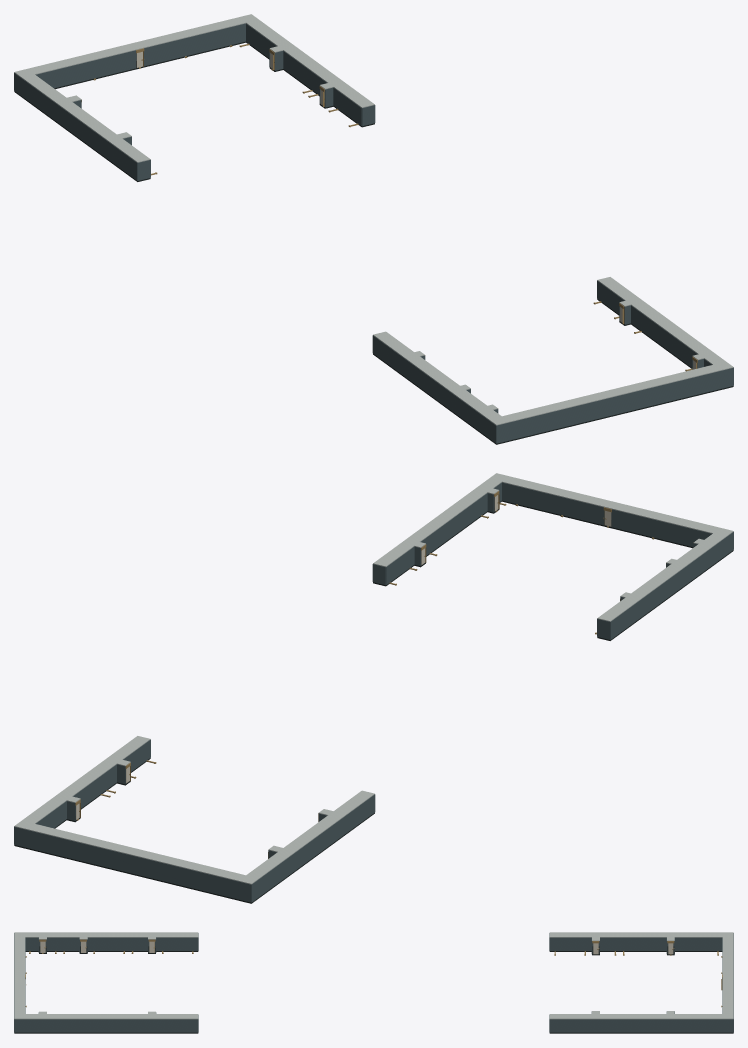
File: D04_STARBOARD_CENTRAL_COURT_ROUTES_r001.glb
3 views of the same model, one above another, from view 1: azimuth 30°, elevation 25°; view 2: azimuth 150°, elevation 25°; view 3: azimuth 270°, elevation 25° (orthographic). The views are drawn at different scales.
Visible parts, largest first — view 1: SCR_Roof0, SCR_Roof1, SCR_Wall1_4_0, SCR_Wall0_18, SCR_Wall1_1, SCR_Wall0_1_1, SCR_Wall0_1_0, SCR_Wall1_13, SCR_Floor1, SCR_Floor0, SCR_Wall0_6; view 2: SCR_Roof0, SCR_Roof1, SCR_Wall0_15_0, SCR_Wall0_18, SCR_Wall1_1, SCR_Wall1_18_1, SCR_Wall1_18_0, SCR_Wall1_13, SCR_Floor0, SCR_Floor1, SCR_Wall0_6; view 3: SCR_Roof1, SCR_Roof0, SCR_Wall0_12, SCR_Wall1_7, SCR_Wall0_24, SCR_Wall1_27, SCR_Wall0_0, SCR_Floor0, SCR_Floor1, SCR_Wall0_20, SCR_Wall1_31, SCR_Wall1_23 (+1 smaller).
Boxes of the visible parts, x1=… form: SCR_Roof0: x1=14, y1=14, x2=374, y2=162; SCR_Roof1: x1=373, y1=277, x2=733, y2=425; SCR_Wall1_4_0: x1=509, y1=371, x2=720, y2=440; SCR_Wall0_18: x1=21, y1=78, x2=137, y2=180; SCR_Wall1_1: x1=372, y1=335, x2=488, y2=437; SCR_Wall0_1_1: x1=143, y1=23, x2=245, y2=66; SCR_Wall0_1_0: x1=35, y1=50, x2=135, y2=88; SCR_Wall1_13: x1=631, y1=305, x2=697, y2=367; SCR_Floor1: x1=373, y1=299, x2=733, y2=444; SCR_Floor0: x1=14, y1=41, x2=374, y2=181; SCR_Wall0_6: x1=283, y1=51, x2=326, y2=94; SCR_Roof0: x1=14, y1=736, x2=374, y2=884; SCR_Roof1: x1=373, y1=473, x2=733, y2=621; SCR_Wall0_15_0: x1=27, y1=830, x2=238, y2=899; SCR_Wall0_18: x1=259, y1=794, x2=375, y2=896; SCR_Wall1_1: x1=610, y1=537, x2=726, y2=639; SCR_Wall1_18_1: x1=502, y1=482, x2=604, y2=525; SCR_Wall1_18_0: x1=612, y1=509, x2=712, y2=546; SCR_Wall1_13: x1=421, y1=493, x2=487, y2=555; SCR_Floor0: x1=14, y1=758, x2=374, y2=903; SCR_Floor1: x1=373, y1=500, x2=733, y2=640; SCR_Wall0_6: x1=73, y1=764, x2=116, y2=808; SCR_Roof1: x1=14, y1=932, x2=198, y2=1019; SCR_Roof0: x1=549, y1=932, x2=733, y2=1019; SCR_Wall0_12: x1=549, y1=1019, x2=722, y2=1032; SCR_Wall1_7: x1=25, y1=1019, x2=198, y2=1032; SCR_Wall0_24: x1=600, y1=937, x2=666, y2=950; SCR_Wall1_27: x1=88, y1=937, x2=147, y2=950; SCR_Wall0_0: x1=675, y1=937, x2=722, y2=950; SCR_Floor0: x1=549, y1=946, x2=733, y2=1033; SCR_Floor1: x1=14, y1=946, x2=198, y2=1033; SCR_Wall0_20: x1=549, y1=937, x2=591, y2=950; SCR_Wall1_31: x1=156, y1=937, x2=198, y2=950; SCR_Wall1_23: x1=47, y1=937, x2=79, y2=950.
Bounding box in the file's own units: 44.32 × 3.56 × 156.
7 materials, 7 textured.
